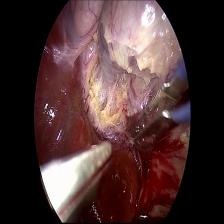Bipolar: (123, 57, 193, 161)
Grasper: (41, 132, 117, 224)
